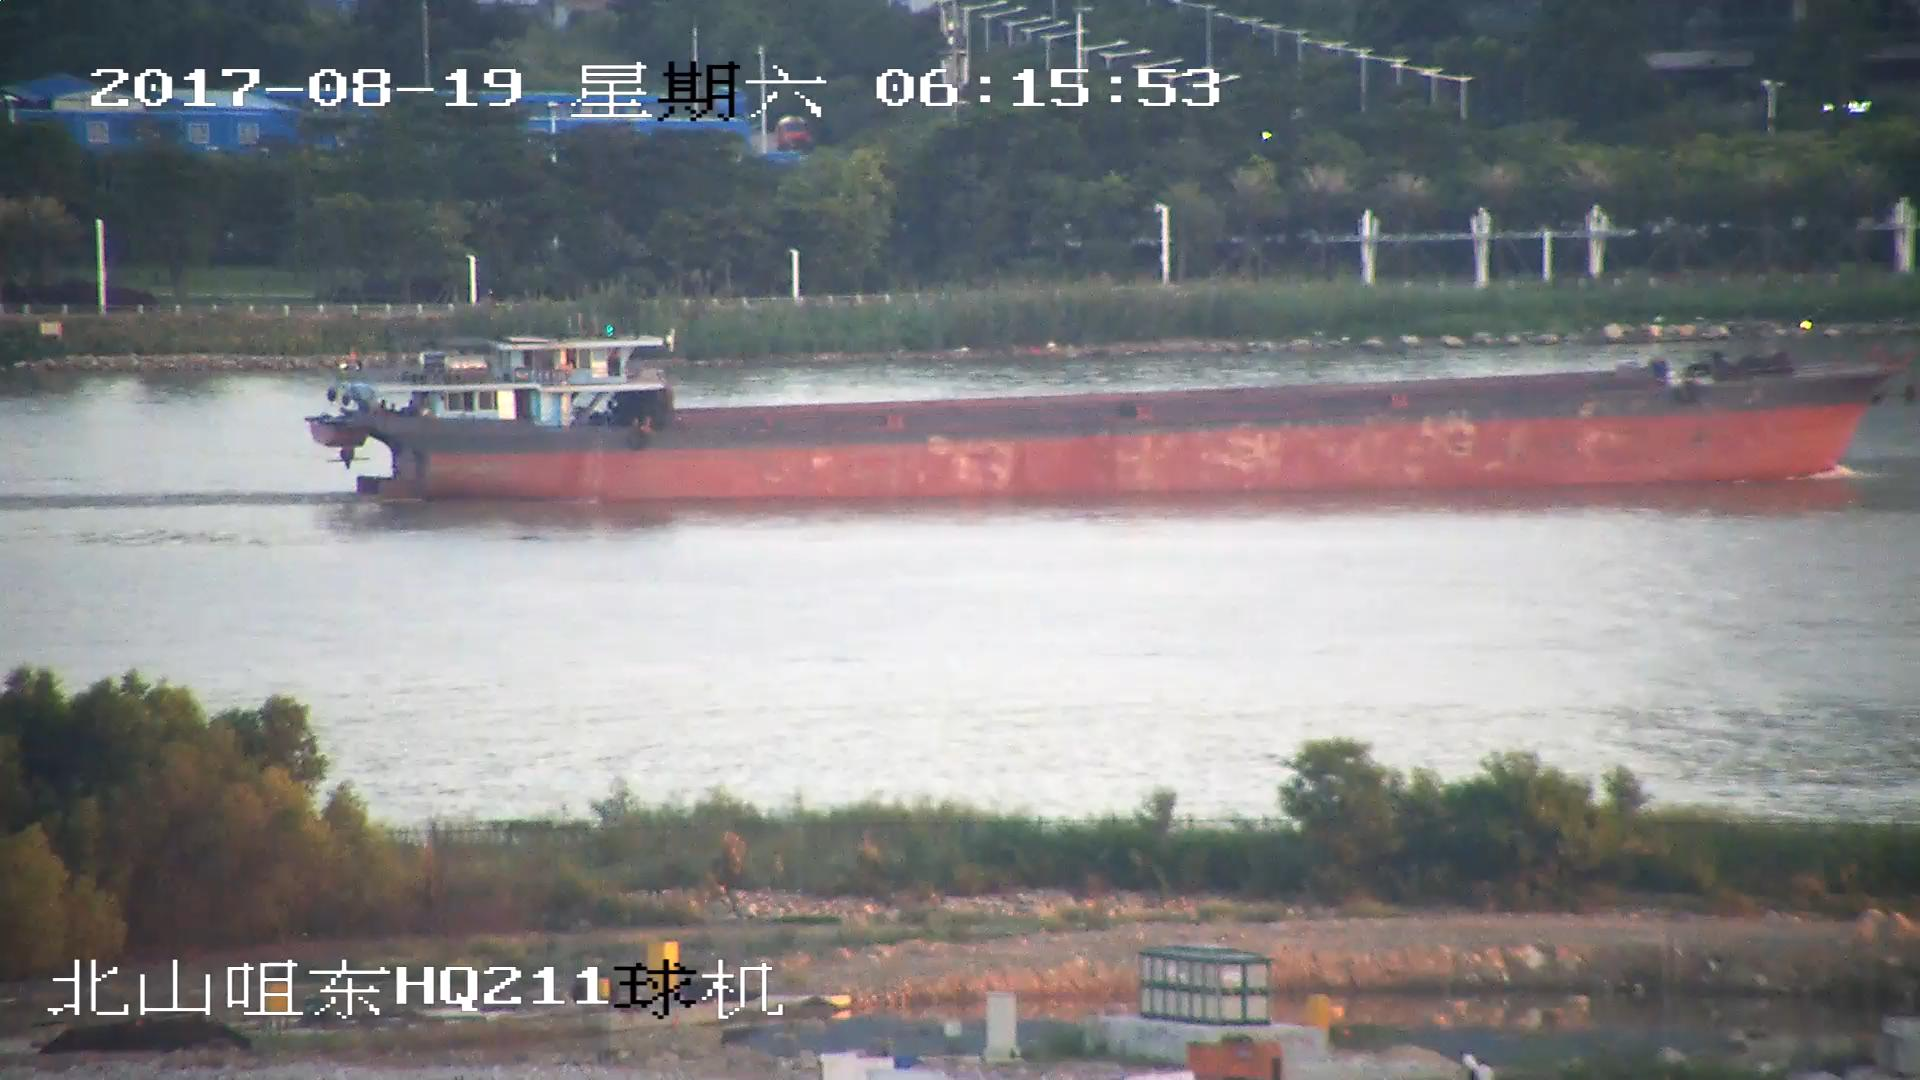bulk cargo carrier: (308, 333, 1890, 500)
